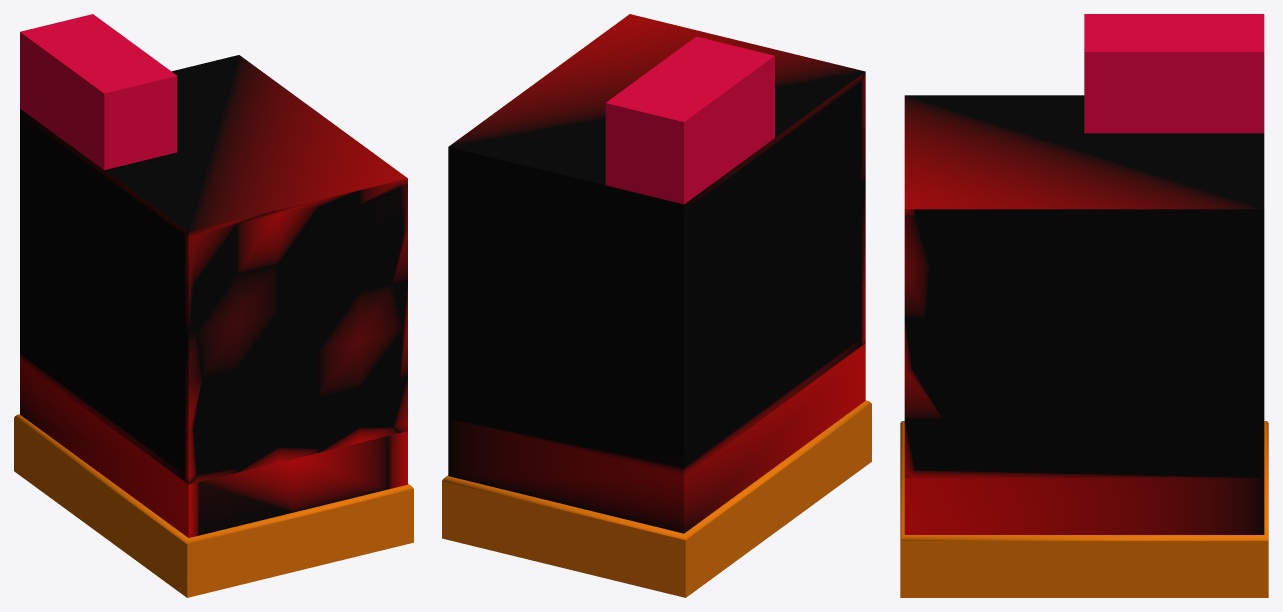
File: House8_collisionSetup.fbx
3 renders of one model, left to right at view 1: azimuth 30°, elevation 25°; view 2: azimuth 150°, elevation 25°; view 3: azimuth 270°, elevation 25°, orthographic. The views are drawn at different scales.
Visible parts, largest first — view 1: collisionCube.018, collisionConvex.208, collisionCube.012; view 2: collisionCube.018, collisionConvex.208, collisionCube.012; view 3: collisionCube.018, collisionConvex.208, collisionCube.012.
Boxes of the visible parts, <box> form: collisionCube.018: <box>20,55,407,537</box>; collisionConvex.208: <box>14,414,413,597</box>; collisionCube.012: <box>20,14,177,169</box>; collisionCube.018: <box>448,14,865,533</box>; collisionConvex.208: <box>442,400,871,597</box>; collisionCube.012: <box>605,36,774,204</box>; collisionCube.018: <box>904,95,1264,534</box>; collisionConvex.208: <box>900,421,1268,597</box>; collisionCube.012: <box>1084,14,1264,133</box>.
Size of the model in its own units: 620 by 1150 by 820.
